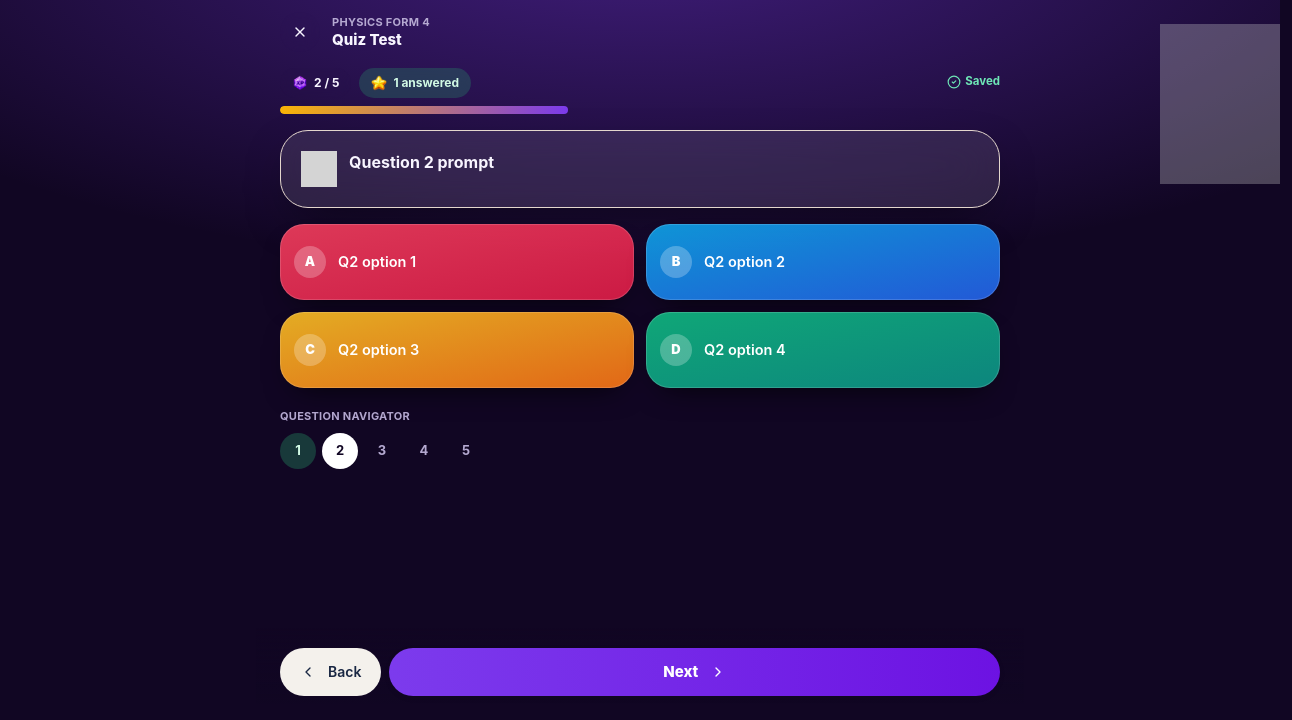
Test case: resuming an in-progress attempt › CASE D — restores the latest persisted answer for a changed question
This screenshot has width=1292, height=720.
Check: the text "1 answered" is shown, box [359, 68, 471, 98]
Click the button "1" at (298, 450), box [280, 432, 316, 468]
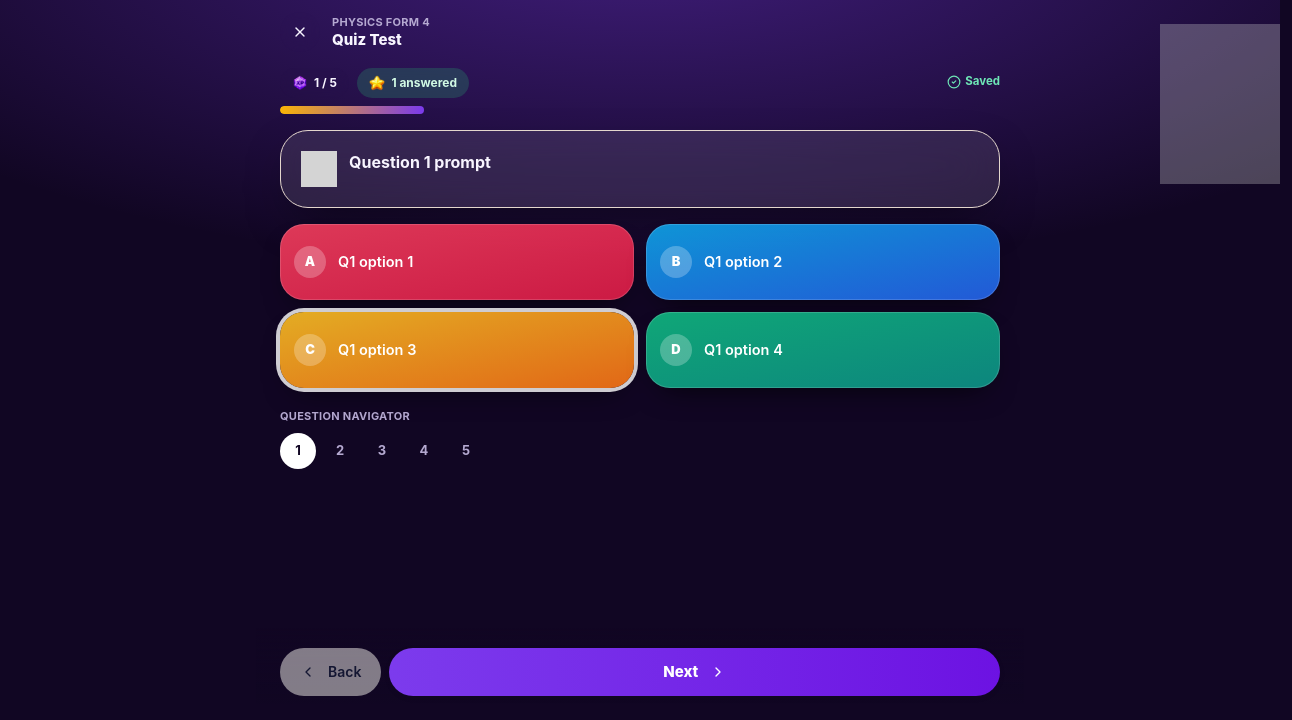
Check: the button "C Q1 option 3" is pressed, box [280, 312, 634, 388]
